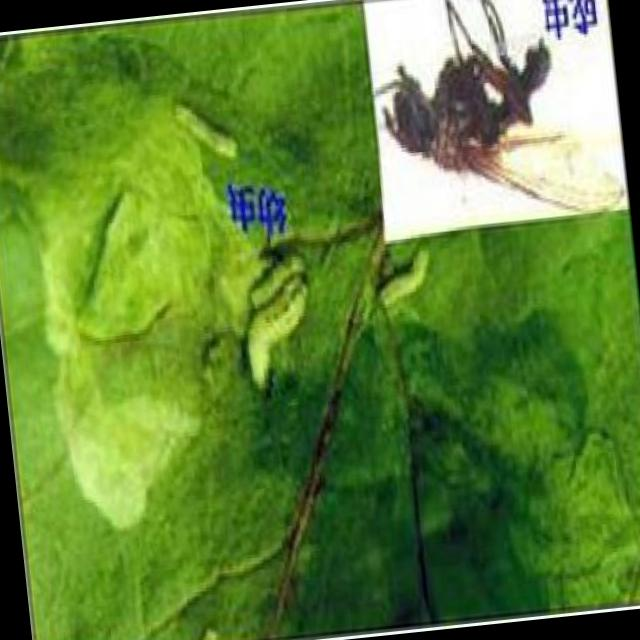whorl-maggot: (228, 242, 318, 396), (365, 241, 437, 324), (166, 92, 239, 165)
